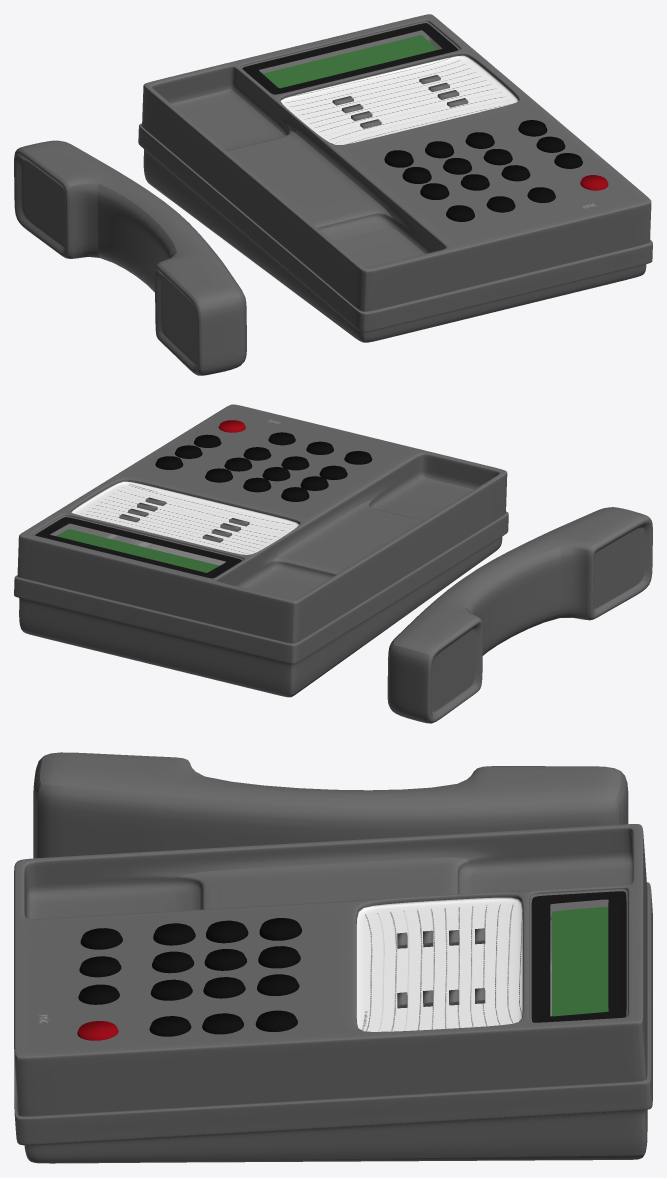
The model's file is telephone.glb.
3 renders of one model, top to bottom at view 1: azimuth 30°, elevation 25°; view 2: azimuth 150°, elevation 25°; view 3: azimuth 270°, elevation 25°, orthographic. The views are drawn at different scales.
Parts seen in each view (by area): view 1: polySurface1.001, pCube2.001, polySurface1_2, pCylinder18_1, polySurface1_1, polySurface1_1.001, polySurface1_3, pCube9.001; view 2: polySurface1.001, pCube2.001, polySurface1_2, pCylinder18_1, polySurface1_1, polySurface1_3, polySurface1_1.001, pCube9.001; view 3: polySurface1.001, pCube2.001, polySurface1_2, pCylinder18_1, polySurface1_1, polySurface1_1.001, polySurface1_3, pCube9.001, pCylinder18.001.
Part boxes in pixels (x1=…): polySurface1.001: x1=138, y1=14, x2=652, y2=342; pCube2.001: x1=14, y1=140, x2=246, y2=375; polySurface1_2: x1=280, y1=55, x2=518, y2=144; pCylinder18_1: x1=384, y1=120, x2=582, y2=221; polySurface1_1: x1=259, y1=30, x2=441, y2=87; polySurface1_1.001: x1=263, y1=35, x2=437, y2=88; polySurface1_3: x1=242, y1=23, x2=457, y2=94; pCube9.001: x1=332, y1=75, x2=468, y2=128; polySurface1.001: x1=14, y1=404, x2=508, y2=697; pCube2.001: x1=387, y1=507, x2=652, y2=723; polySurface1_2: x1=71, y1=481, x2=299, y2=554; pCylinder18_1: x1=155, y1=432, x2=372, y2=501; polySurface1_1: x1=50, y1=524, x2=224, y2=572; polySurface1_3: x1=35, y1=517, x2=241, y2=578; polySurface1_1.001: x1=56, y1=529, x2=219, y2=572; pCube9.001: x1=119, y1=497, x2=249, y2=542; polySurface1.001: x1=14, y1=824, x2=652, y2=1163; pCube2.001: x1=33, y1=752, x2=628, y2=858; polySurface1_2: x1=356, y1=897, x2=522, y2=1031; pCylinder18_1: x1=78, y1=918, x2=301, y2=1036; polySurface1_1: x1=550, y1=900, x2=608, y2=1015; polySurface1_1.001: x1=552, y1=906, x2=608, y2=1016; polySurface1_3: x1=531, y1=891, x2=626, y2=1022; pCube9.001: x1=397, y1=928, x2=485, y2=1008; pCylinder18.001: x1=77, y1=1021, x2=118, y2=1040.
Size of the model in its own units: 3.74 by 0.8232 by 3.27.
9 materials, 4 textured.
